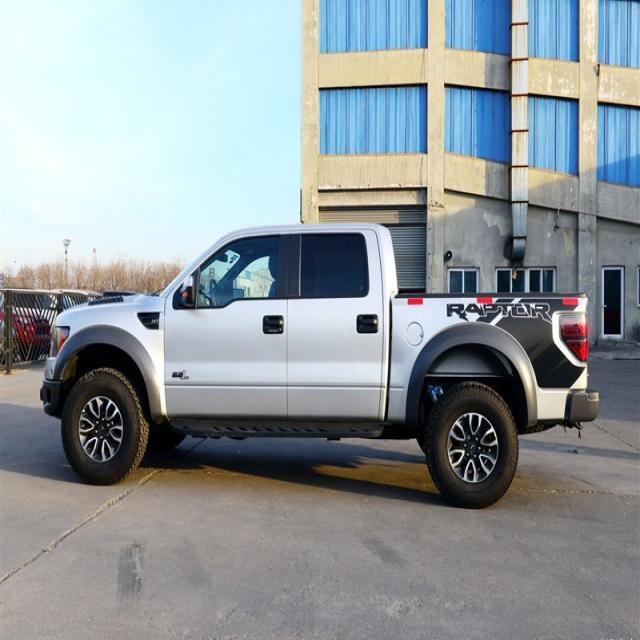back_left_side_light: (556, 310, 590, 362)
door: (284, 232, 386, 420)
front_bumper: (39, 374, 62, 416)
front_left_side_door: (163, 229, 289, 422)
front_left_side_light: (49, 324, 71, 360)
front_left_side_mirror: (180, 265, 196, 308)
rear_bumper: (565, 384, 601, 426)
wheel: (426, 381, 520, 508), (60, 367, 142, 484)
